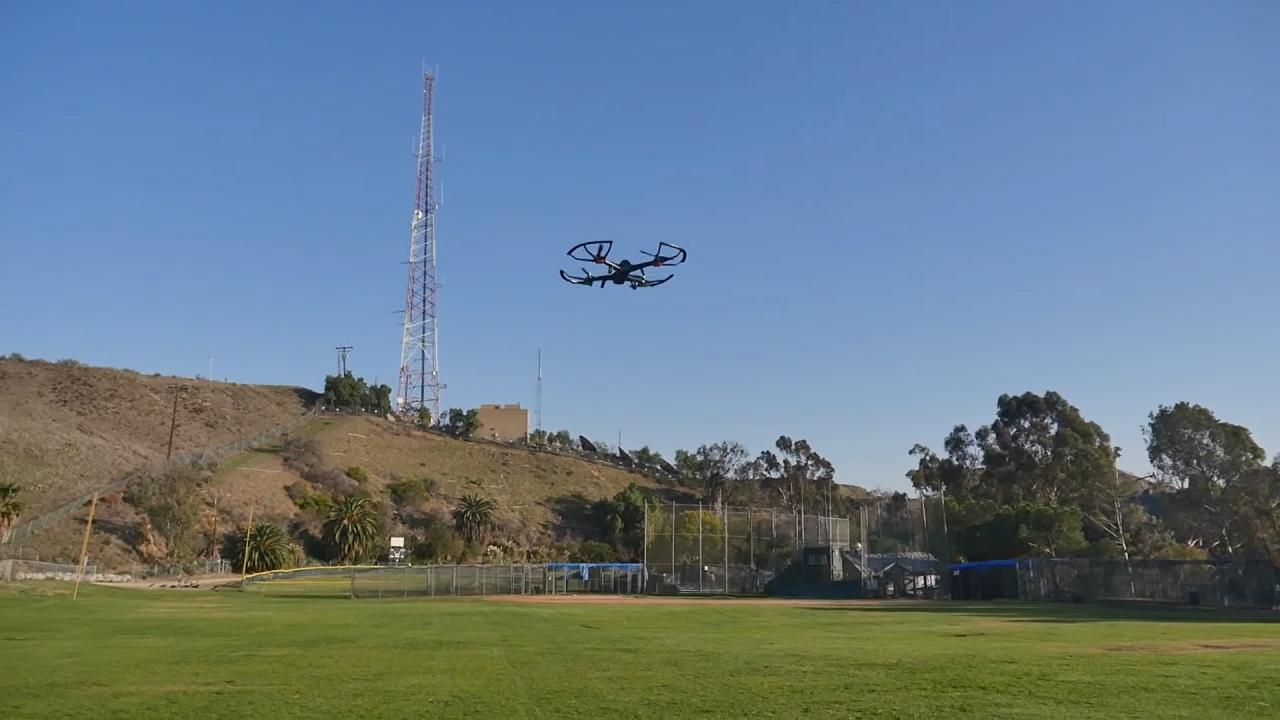Drone: (545, 232, 698, 300)
